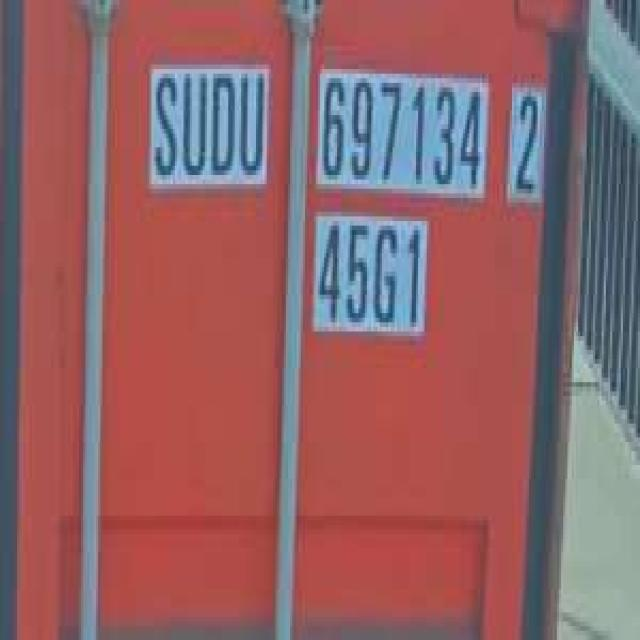dv: (504, 74, 546, 207)
owner: (147, 55, 269, 189)
serial: (314, 64, 484, 194)
size: (312, 207, 424, 341)
